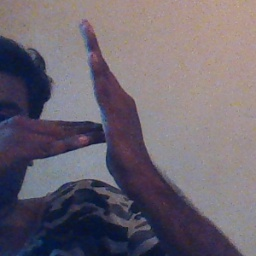Z: (33, 19, 142, 186)
